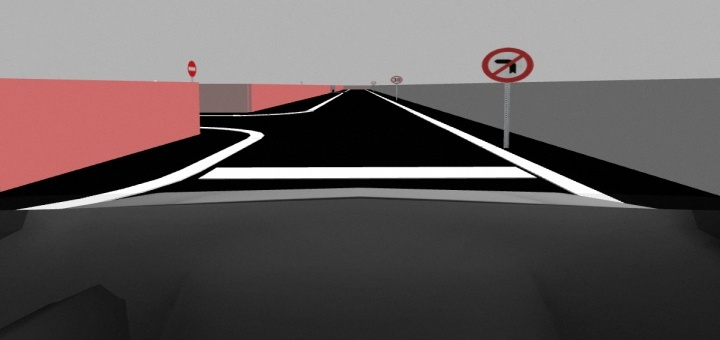sola_donulmez: (480, 46, 535, 84)
